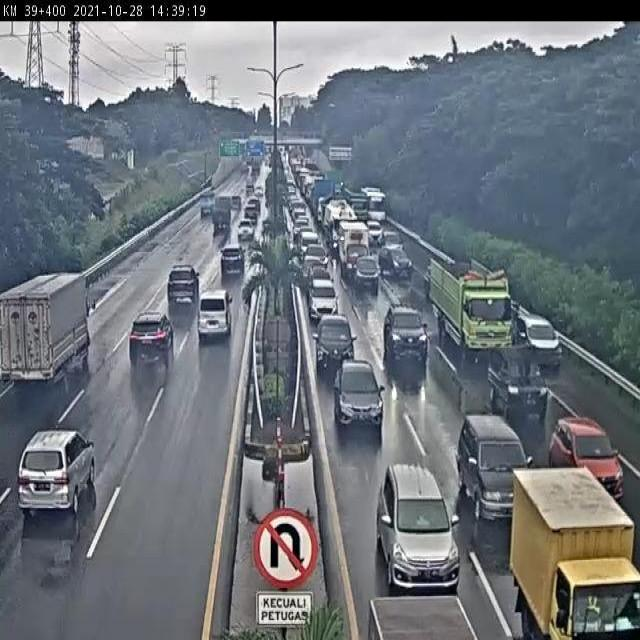car: (376, 462, 461, 590), (457, 417, 531, 520), (17, 427, 96, 513), (550, 417, 625, 500), (333, 363, 384, 429), (384, 302, 427, 358), (517, 314, 563, 362), (129, 311, 173, 361), (315, 306, 352, 362), (196, 288, 231, 337), (308, 276, 337, 321), (166, 268, 197, 304), (218, 243, 247, 276), (379, 246, 410, 274), (354, 255, 379, 285), (303, 253, 324, 280), (307, 264, 331, 285), (305, 244, 328, 265)
mid truck: (0, 274, 94, 389), (431, 256, 511, 353)
small truck: (513, 468, 640, 640), (487, 348, 549, 415), (340, 224, 370, 271)
